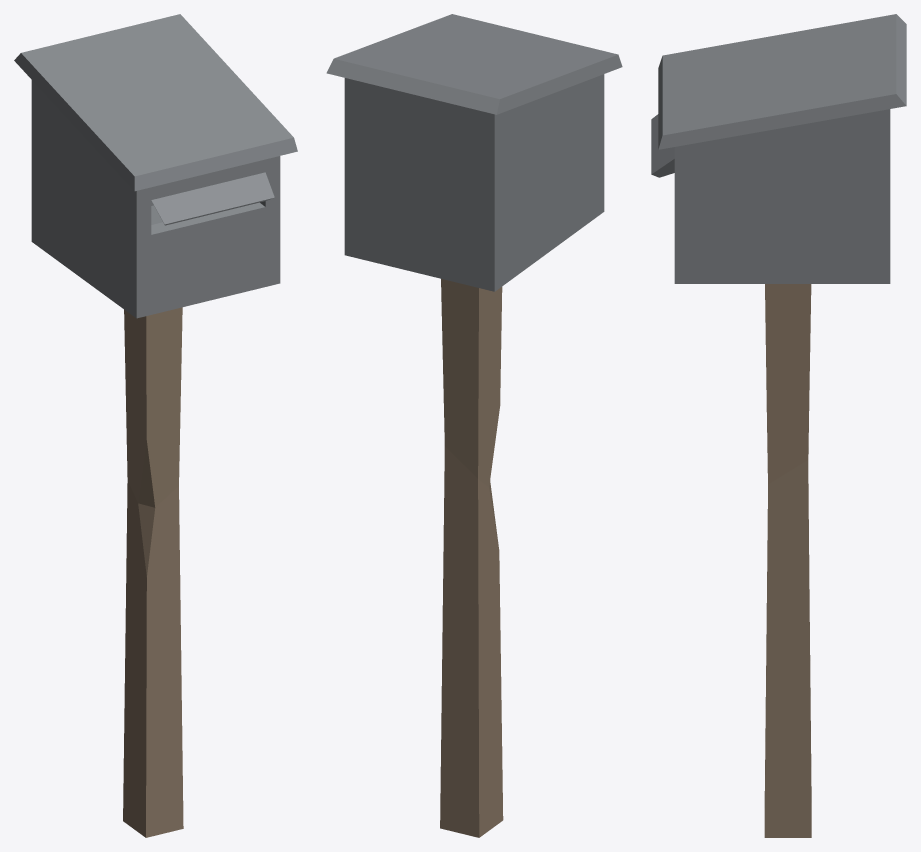
File: SM_Prop_LetterBox_02.fbx
3 views of the same model, side by side, from view 1: azimuth 30°, elevation 25°; view 2: azimuth 150°, elevation 25°; view 3: azimuth 270°, elevation 25° (orthographic). The views are drawn at different scales.
Visible parts, largest first — view 1: SM_Prop_LetterBox_02, SM_Prop_LetterBox_02_Door; view 2: SM_Prop_LetterBox_02, SM_Prop_LetterBox_02_Door; view 3: SM_Prop_LetterBox_02, SM_Prop_LetterBox_02_Door.
Boxes of the visible parts, box(x1,y1,x2,y2) form: SM_Prop_LetterBox_02: box(31, 80, 280, 837); SM_Prop_LetterBox_02_Door: box(14, 14, 297, 191); SM_Prop_LetterBox_02: box(344, 74, 604, 837); SM_Prop_LetterBox_02_Door: box(326, 14, 622, 114); SM_Prop_LetterBox_02: box(651, 109, 890, 837); SM_Prop_LetterBox_02_Door: box(658, 14, 906, 149).
Size of the model in its own units: 28.53 by 126 by 37.57.
